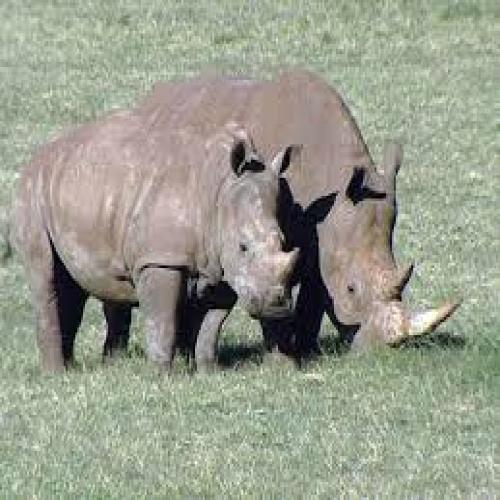rhino-endangered: (129, 67, 464, 356), (14, 107, 304, 376)
